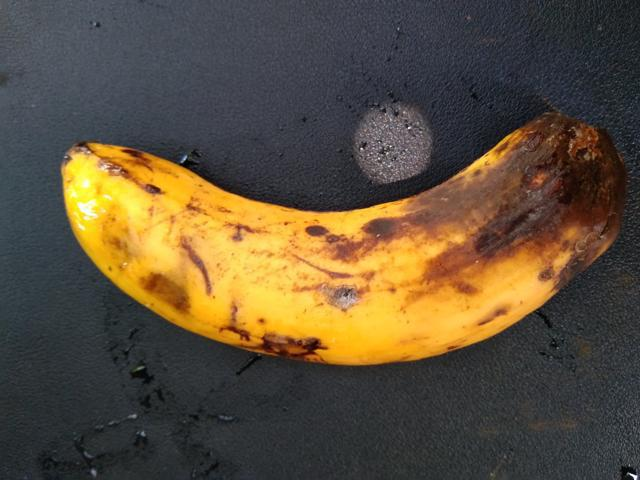rotten: (40, 67, 639, 409)
